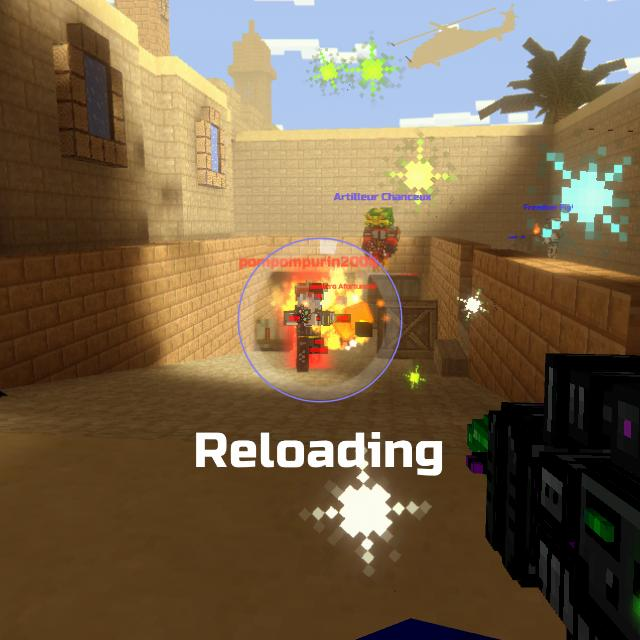Enemy: (284, 283, 336, 372)
